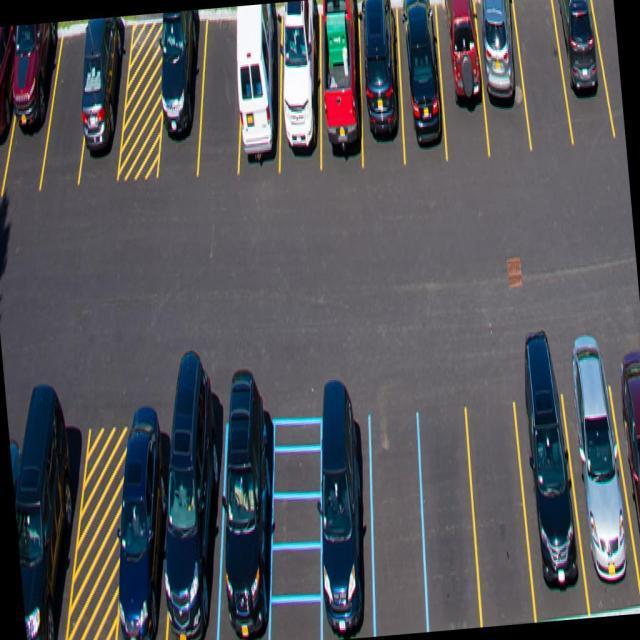car: (5, 386, 89, 640), (157, 360, 232, 640), (562, 354, 638, 614), (511, 360, 587, 620), (110, 390, 188, 640), (207, 396, 280, 640), (310, 394, 380, 638), (0, 22, 71, 226), (75, 16, 138, 226), (268, 0, 334, 196), (149, 9, 219, 193), (230, 2, 290, 192), (310, 0, 368, 176), (389, 0, 449, 169), (350, 0, 408, 174), (472, 0, 528, 158), (553, 0, 608, 160), (434, 0, 490, 157), (8, 414, 42, 640), (612, 356, 640, 610), (0, 24, 34, 214)
free: (461, 385, 531, 625), (414, 410, 484, 630), (364, 411, 430, 634), (30, 20, 102, 216), (187, 5, 255, 208), (513, 0, 572, 158)
